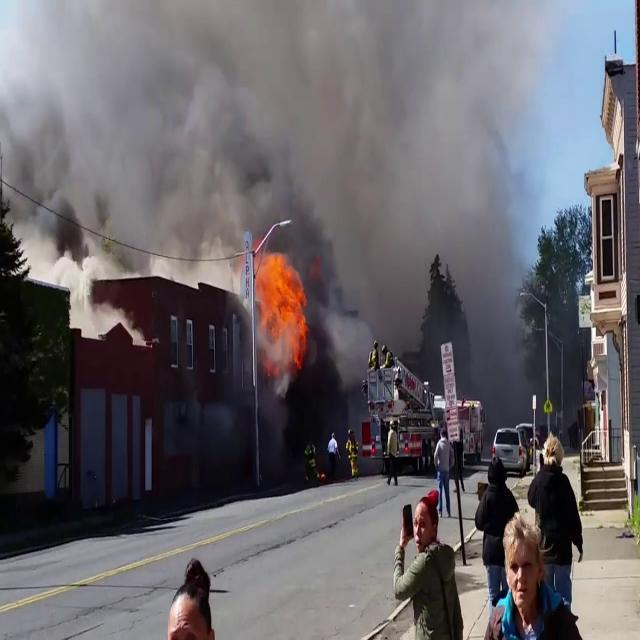Fire: (247, 244, 310, 368)
Smoke: (0, 0, 538, 260)
